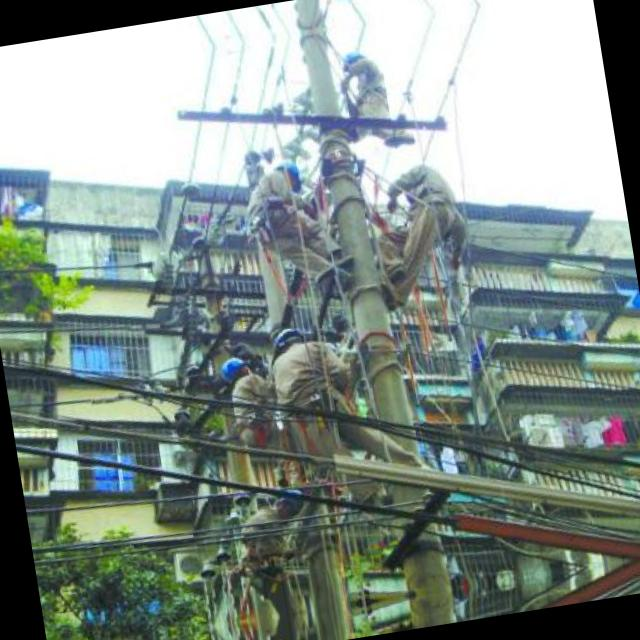helmet: (266, 320, 309, 364), (264, 482, 308, 520), (268, 156, 302, 196), (217, 354, 255, 388), (340, 48, 370, 78), (331, 0, 360, 5)
